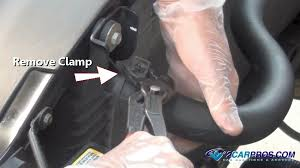radiator_hose: (162, 1, 296, 146)
